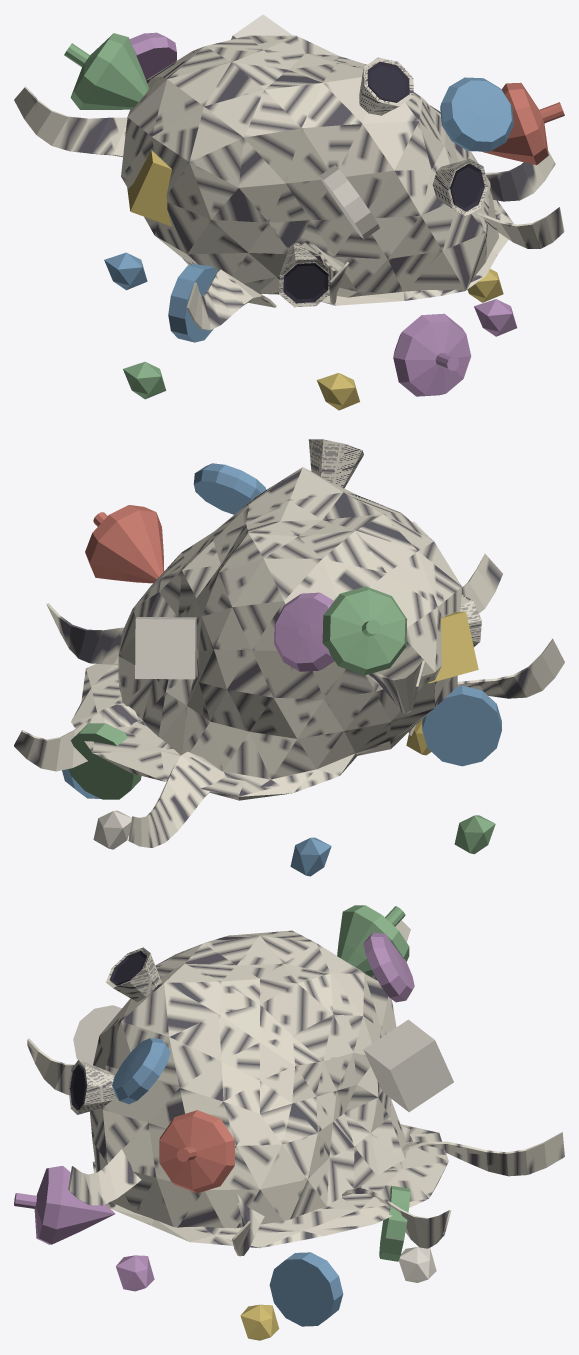
File: Rumor.fbx
3 views of the same model, one above another, from view 1: azimuth 30°, elevation 25°; view 2: azimuth 150°, elevation 25°; view 3: azimuth 270°, elevation 25° (orthographic). The views are drawn at different scales.
Visible parts, largest first — view 1: Rumor; view 2: Rumor; view 3: Rumor.
Part boxes in pixels (box(x1,y1,x2,y2)): Rumor: box(14, 14, 564, 410); Rumor: box(14, 439, 564, 876); Rumor: box(14, 905, 564, 1340).
Bounding box in the file's own units: 10.66 × 7.41 × 11.85.
1 material, 1 textured.
